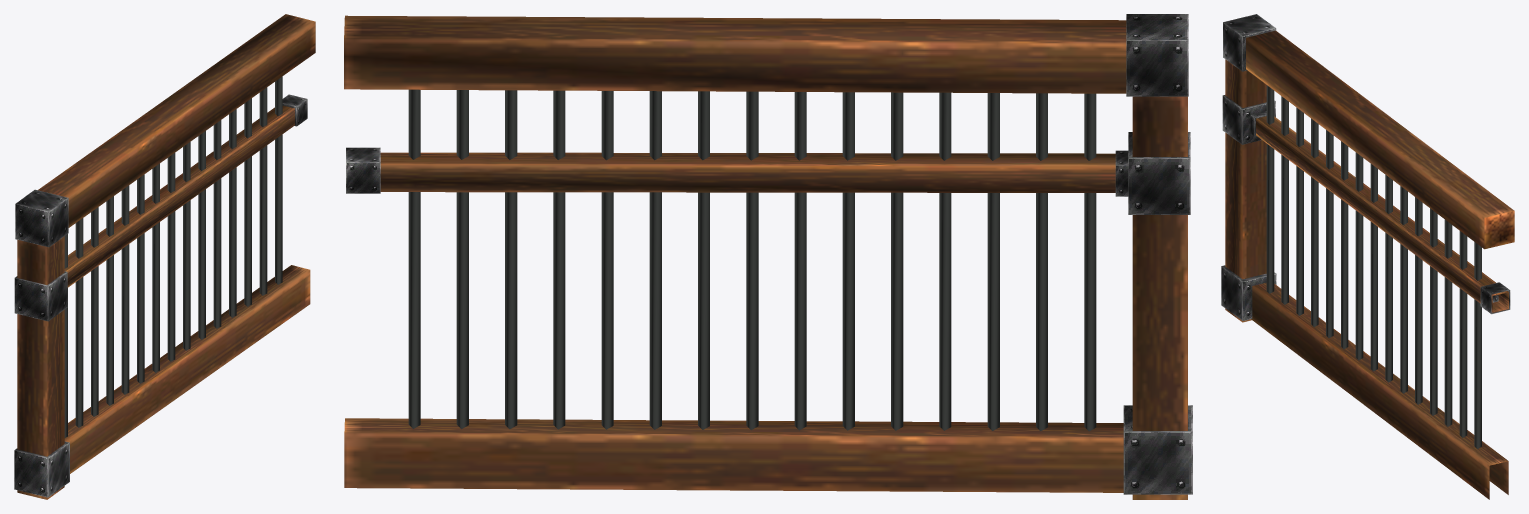
File: SWORDLIGHT20_JAILCELLBARS02.fbx
3 renders of one model, left to right at view 1: azimuth 30°, elevation 25°; view 2: azimuth 150°, elevation 25°; view 3: azimuth 270°, elevation 25°, orthographic. The views are drawn at different scales.
Visible parts, largest first — view 1: SWORDLIGHT20_JAILCELLBARS02; view 2: SWORDLIGHT20_JAILCELLBARS02; view 3: SWORDLIGHT20_JAILCELLBARS02.
Part boxes in pixels (x1,y1,x2,y2): SWORDLIGHT20_JAILCELLBARS02: [14, 14, 315, 499]; SWORDLIGHT20_JAILCELLBARS02: [344, 14, 1192, 499]; SWORDLIGHT20_JAILCELLBARS02: [1221, 14, 1514, 499].
Bounding box in the file's own units: 55418 × 36735 × 33915.
3 materials, 3 textured.
